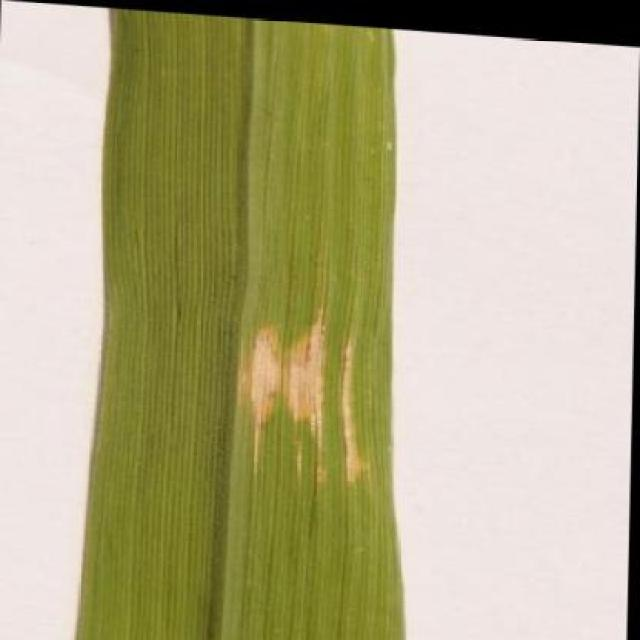Brown_Spot: (73, 4, 416, 640)
